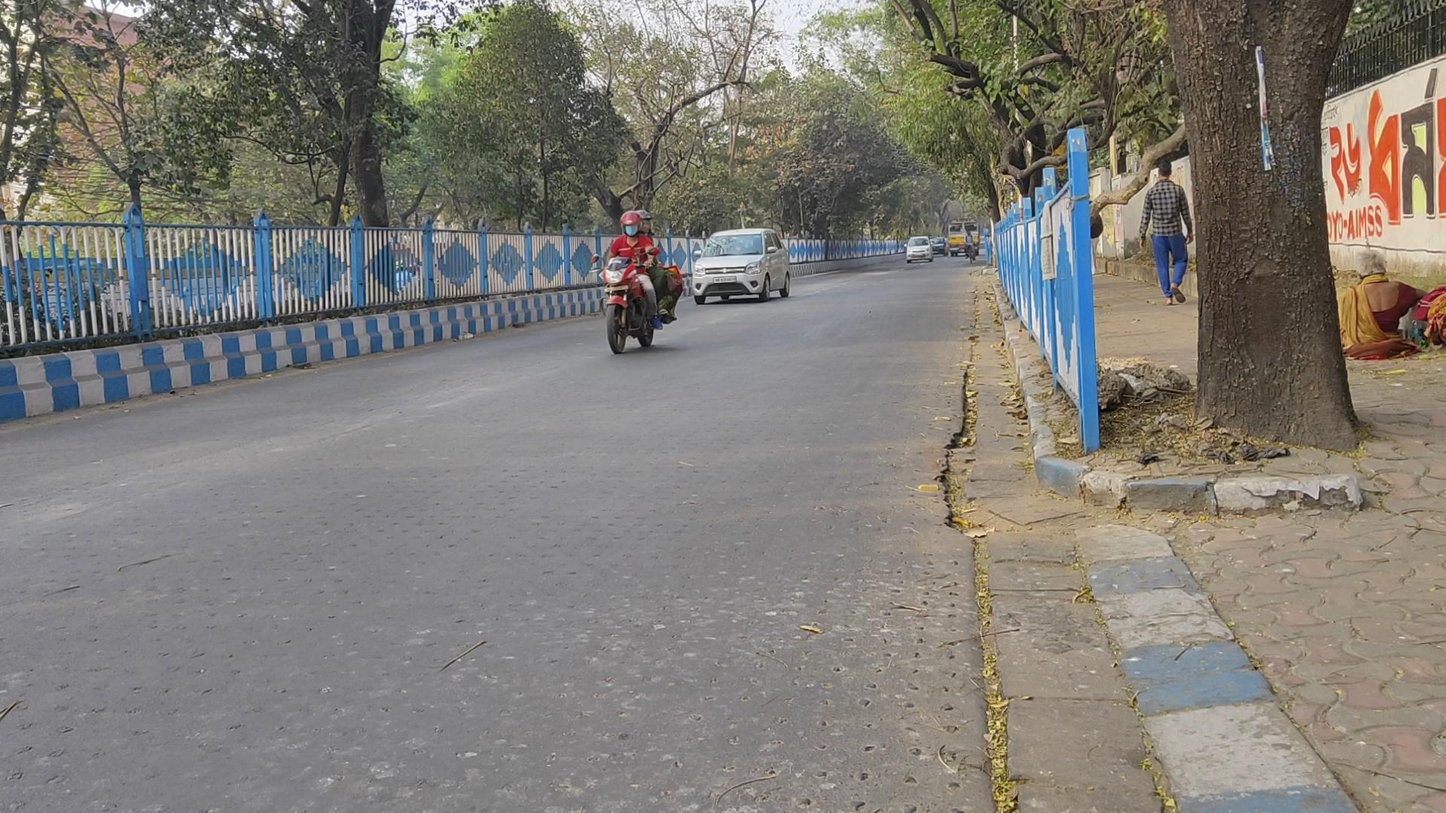Bus: (947, 218, 981, 257)
bike: (591, 209, 680, 356), (963, 230, 978, 265)
car: (692, 227, 792, 305), (902, 233, 932, 265), (929, 236, 948, 257)
